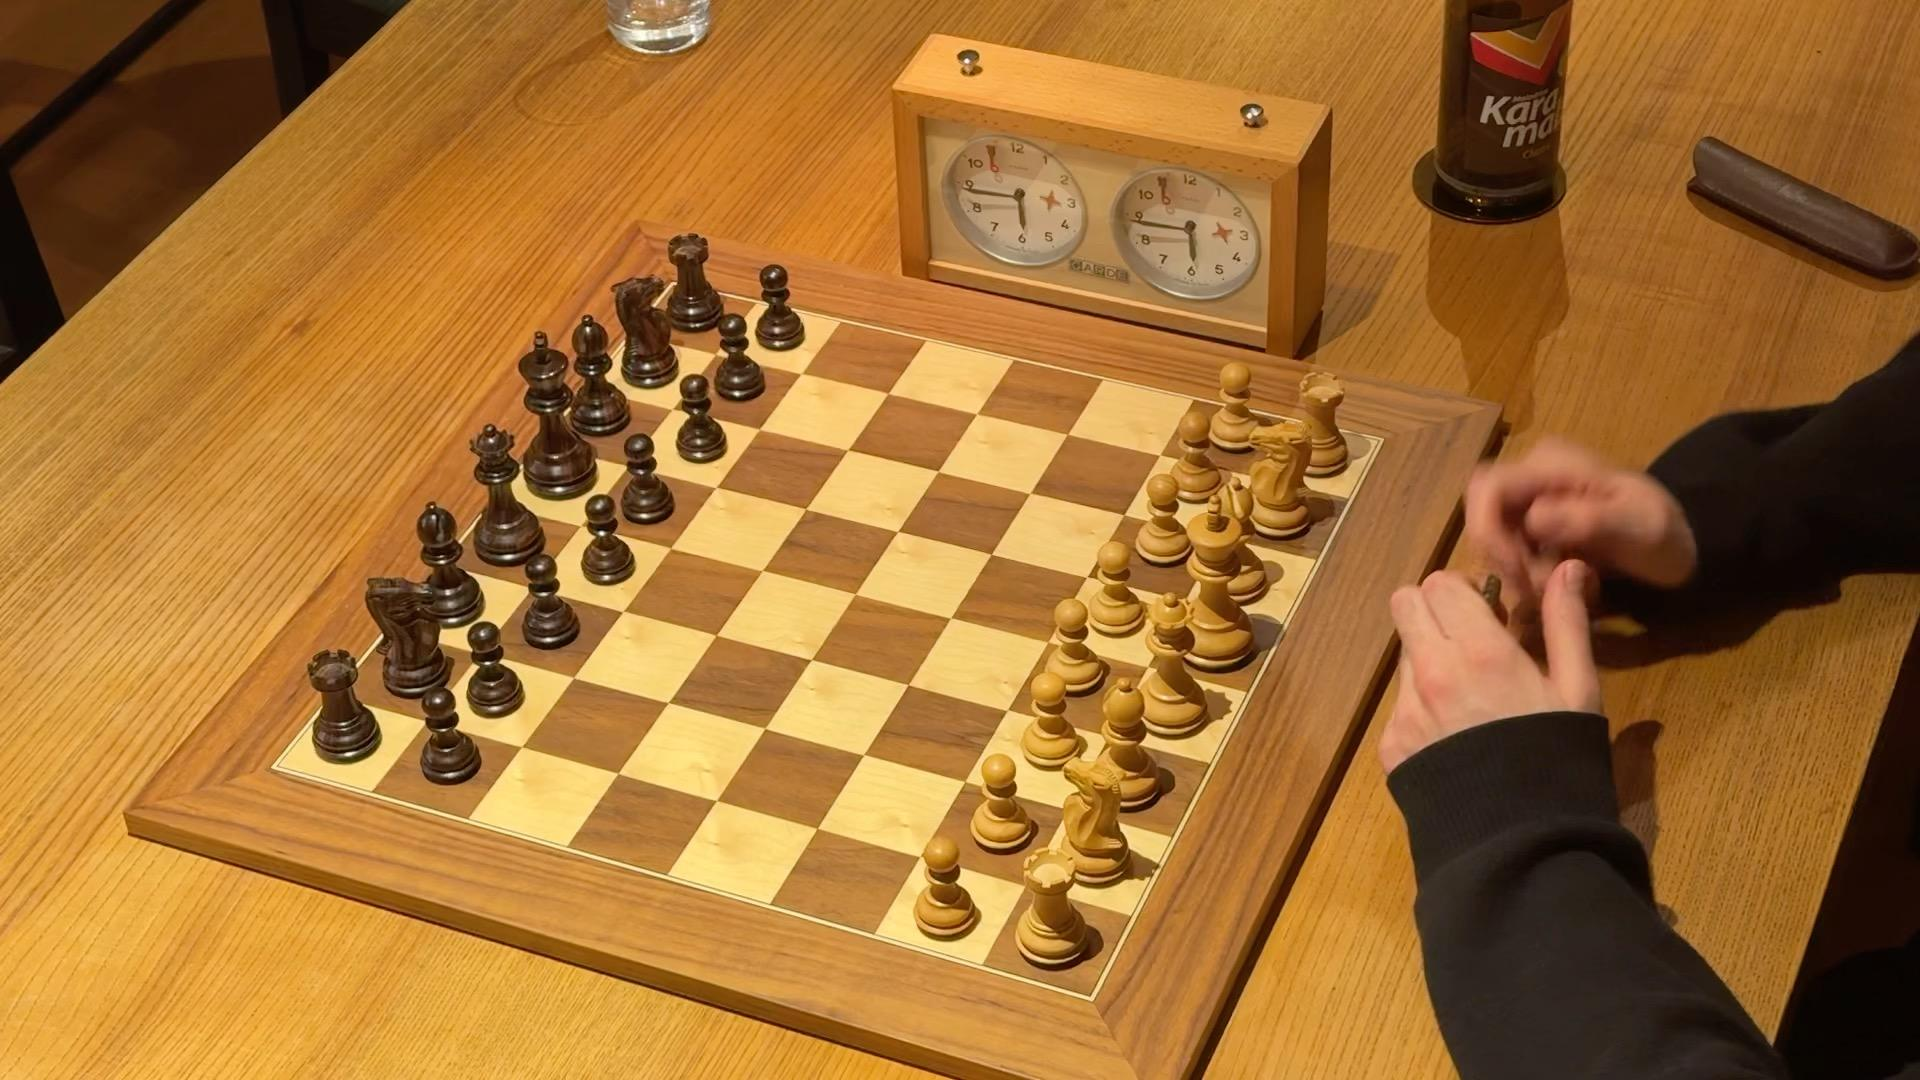Black Bishop: (406, 495, 489, 636), (566, 307, 634, 439)
Black King: (512, 326, 604, 505)
Black Knight: (361, 568, 458, 704), (607, 269, 683, 392)
Black Pawn: (462, 617, 529, 721), (417, 683, 484, 787), (518, 550, 583, 654), (576, 489, 640, 588), (617, 429, 678, 529), (673, 369, 731, 467), (752, 260, 808, 355), (711, 310, 767, 404)
Black Queen: (463, 418, 551, 571)
Black Rook: (303, 642, 386, 769), (662, 227, 731, 335)
White Bishop: (1091, 674, 1166, 814), (1207, 472, 1273, 609)
White King: (1180, 489, 1257, 675)
White Knight: (1054, 748, 1137, 891), (1238, 415, 1316, 545)
White Pawn: (909, 829, 984, 945), (965, 749, 1036, 858), (1017, 667, 1087, 775), (1040, 593, 1109, 698), (1083, 537, 1150, 640), (1133, 468, 1197, 571), (1163, 406, 1225, 508), (1207, 356, 1266, 454)
White Queen: (1130, 589, 1212, 744)
White Rook: (1011, 843, 1093, 973), (1283, 365, 1354, 481)
